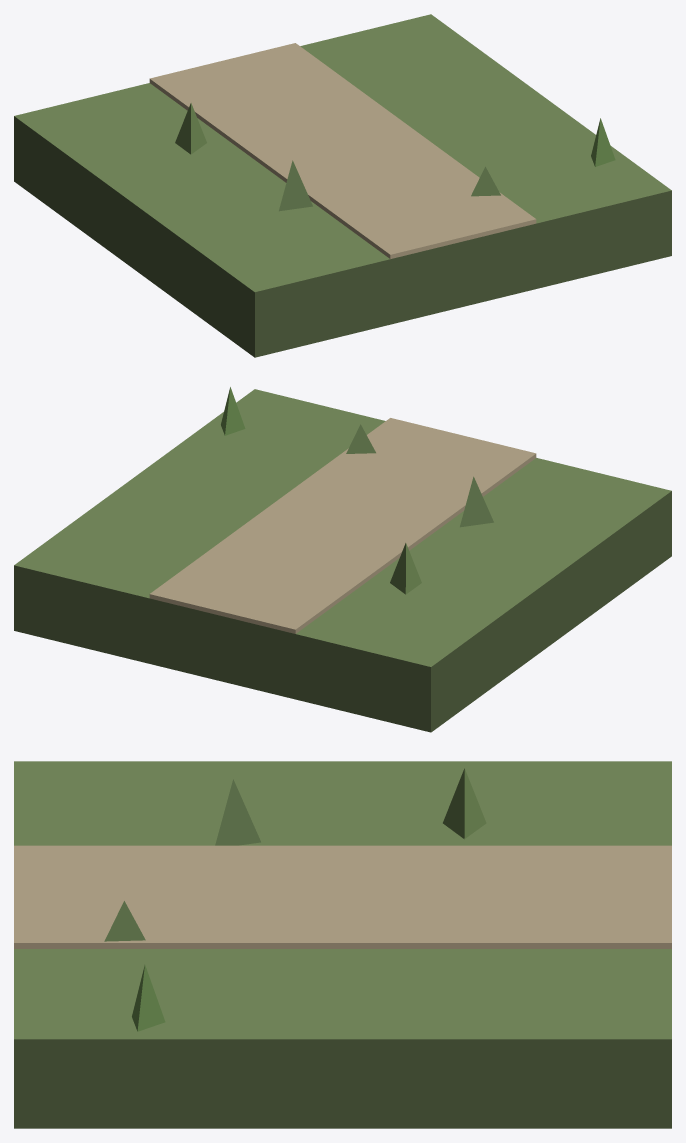
The model's file is t_footpath.glb.
The picture shows the model from 3 angles, top to bottom: view 1: azimuth 30°, elevation 25°; view 2: azimuth 150°, elevation 25°; view 3: azimuth 270°, elevation 25°; orthographic projection. The views are drawn at different scales.
Parts seen in each view (by area): view 1: t_footpath; view 2: t_footpath; view 3: t_footpath.
Boxes of the visible parts, <box> form: t_footpath: <box>14,14,671,357</box>; t_footpath: <box>14,387,671,732</box>; t_footpath: <box>14,761,671,1128</box>.
Bounding box in the file's own units: 2 × 0.5049 × 2.
